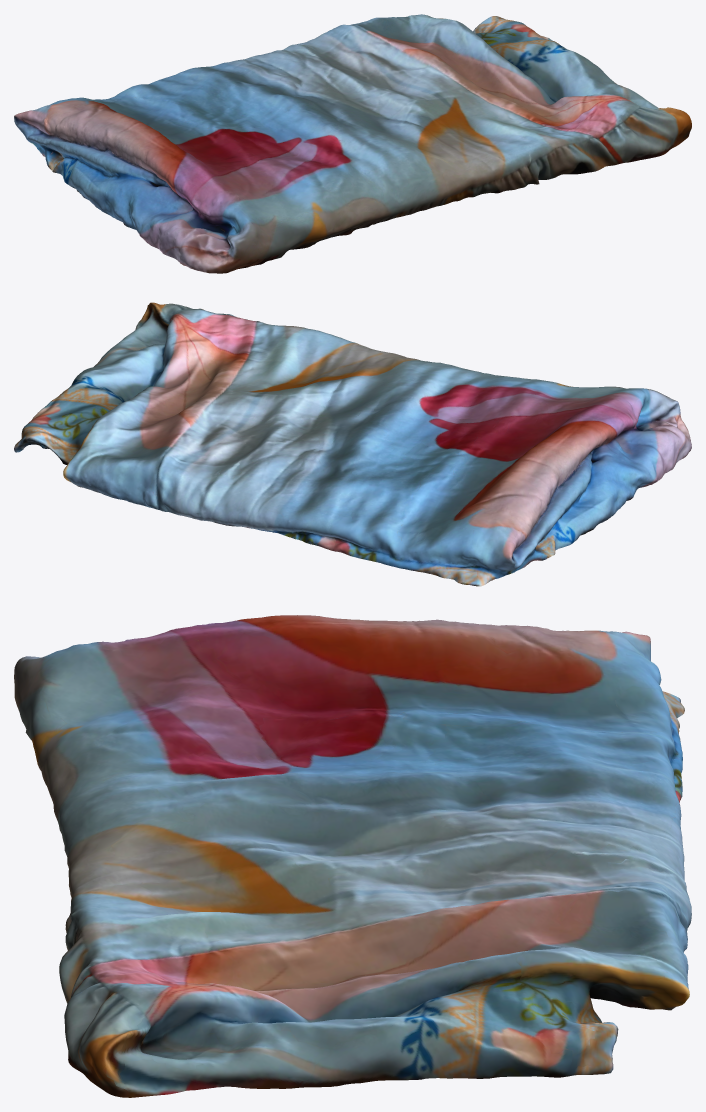
File: patterned-silk-fabric-scan.glb
The picture shows the model from 3 angles, top to bottom: view 1: azimuth 30°, elevation 25°; view 2: azimuth 150°, elevation 25°; view 3: azimuth 270°, elevation 25°; orthographic projection. The views are drawn at different scales.
Visible parts, largest first — view 1: dress_scan; view 2: dress_scan; view 3: dress_scan.
Boxes of the visible parts, x1,y1,x2,y2 form: dress_scan: [14, 14, 691, 273]; dress_scan: [14, 302, 691, 586]; dress_scan: [14, 615, 691, 1097].
Bounding box in the file's own units: 0.4377 × 0.0468 × 0.2957.
Materials: 1 (1 with a texture image).
